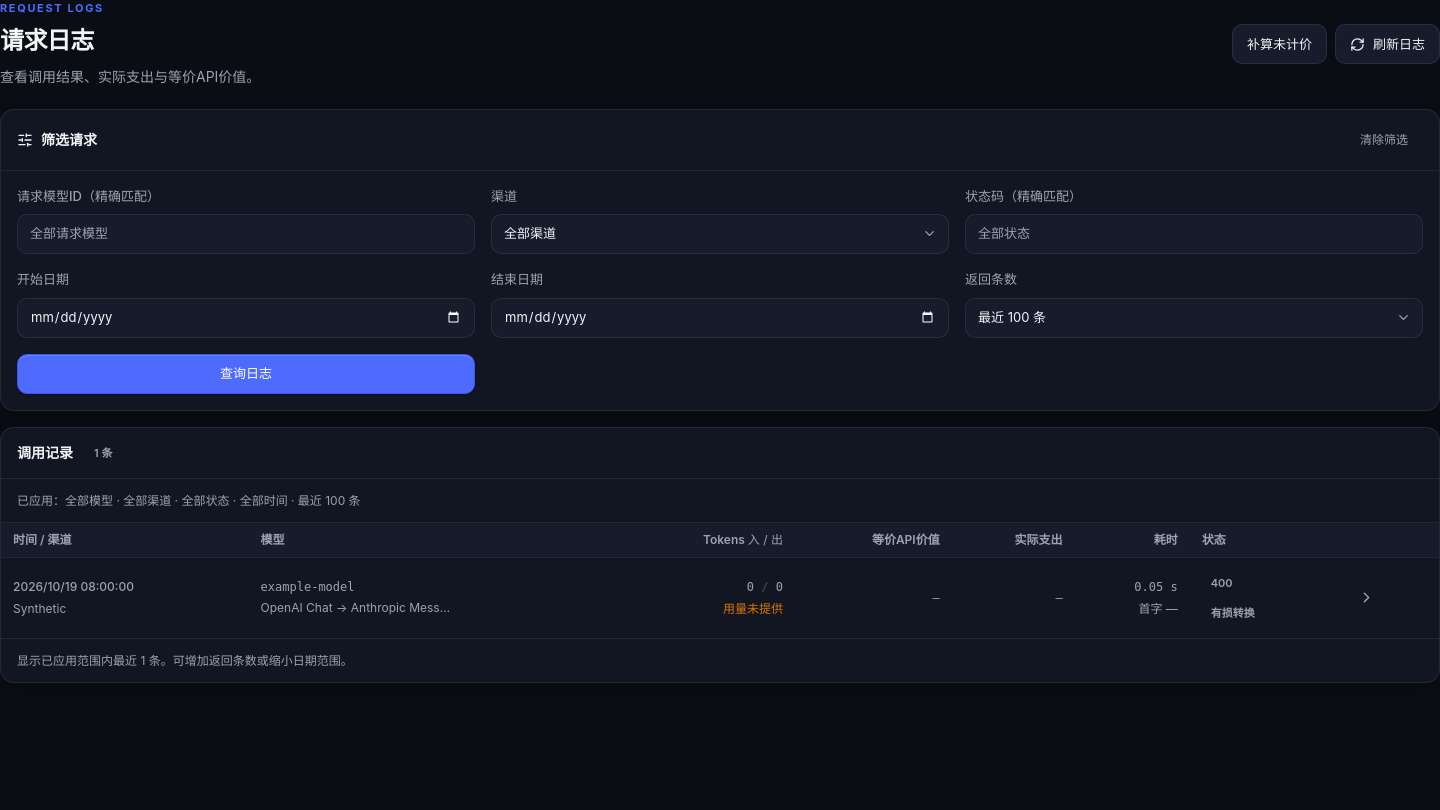
request diagnosis › separates evidence, possibilities, actions and steps while retaining folded errors, losses and attempts
This screenshot has width=1440, height=810.
Step 1. Click the button named "查看请求 7 详情" → (1366, 598), box top-left (1348, 580), bottom-right (1384, 616)
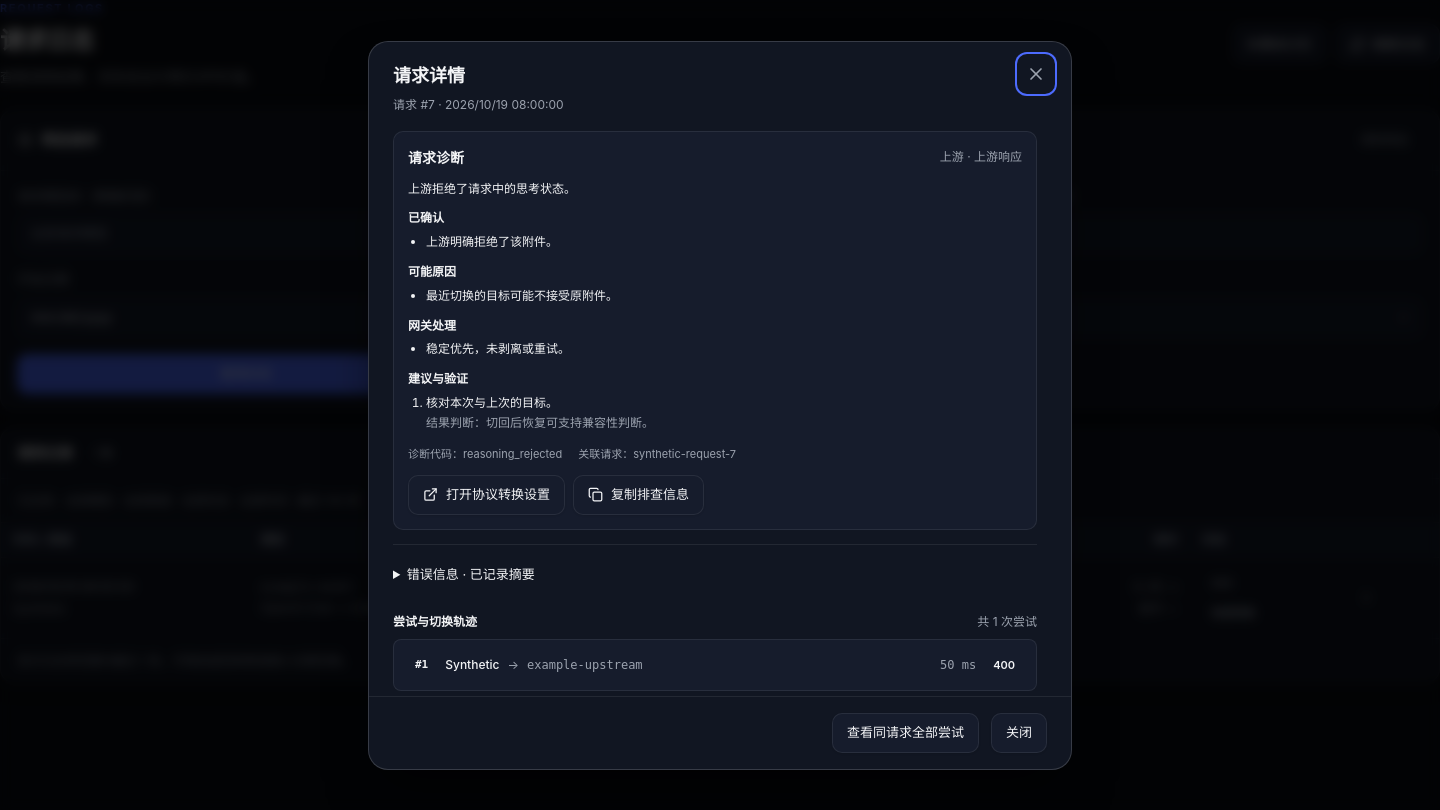
Expected: the heading "已确认" is shown, top-left (408, 210), bottom-right (444, 225)
Expected: the heading "可能原因" is shown, top-left (408, 264), bottom-right (456, 279)
Expected: the heading "网关处理" is shown, top-left (408, 318), bottom-right (456, 333)
